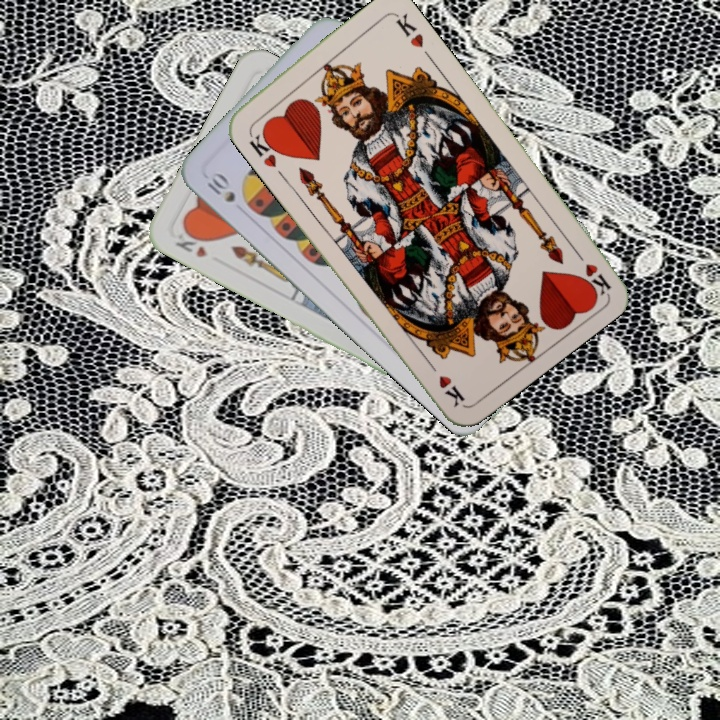HK: (568, 243, 614, 298), (244, 125, 286, 170), (171, 225, 211, 261)
S10: (203, 168, 238, 206)
